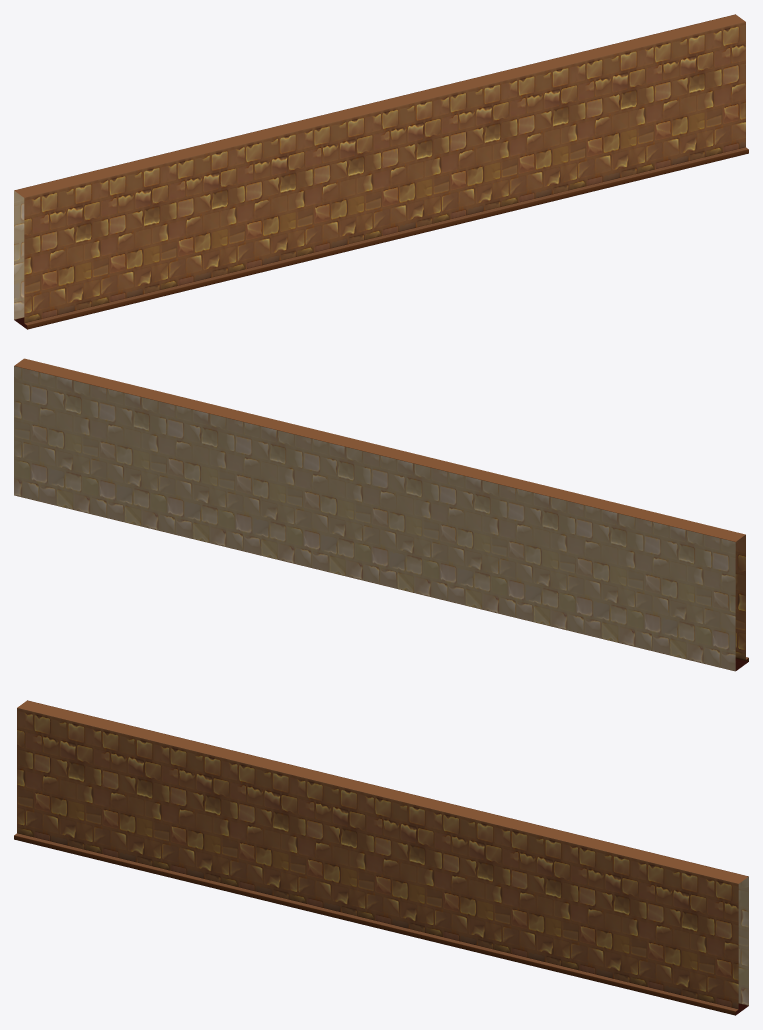
The model's file is map_tuong02.fbx.
3 renders of one model, top to bottom at view 1: azimuth 30°, elevation 25°; view 2: azimuth 150°, elevation 25°; view 3: azimuth 330°, elevation 25°, orthographic.
Parts seen in each view (by area): view 1: Cube.009; view 2: Cube.009; view 3: Cube.009.
Part boxes in pixels (x1,y1,x2,y2): Cube.009: (14,14,748,329); Cube.009: (14,358,748,671); Cube.009: (14,700,748,1015).
Bounding box in the file's own units: 119 × 20.4 × 3.81.
Materials: 1 (1 with a texture image).
